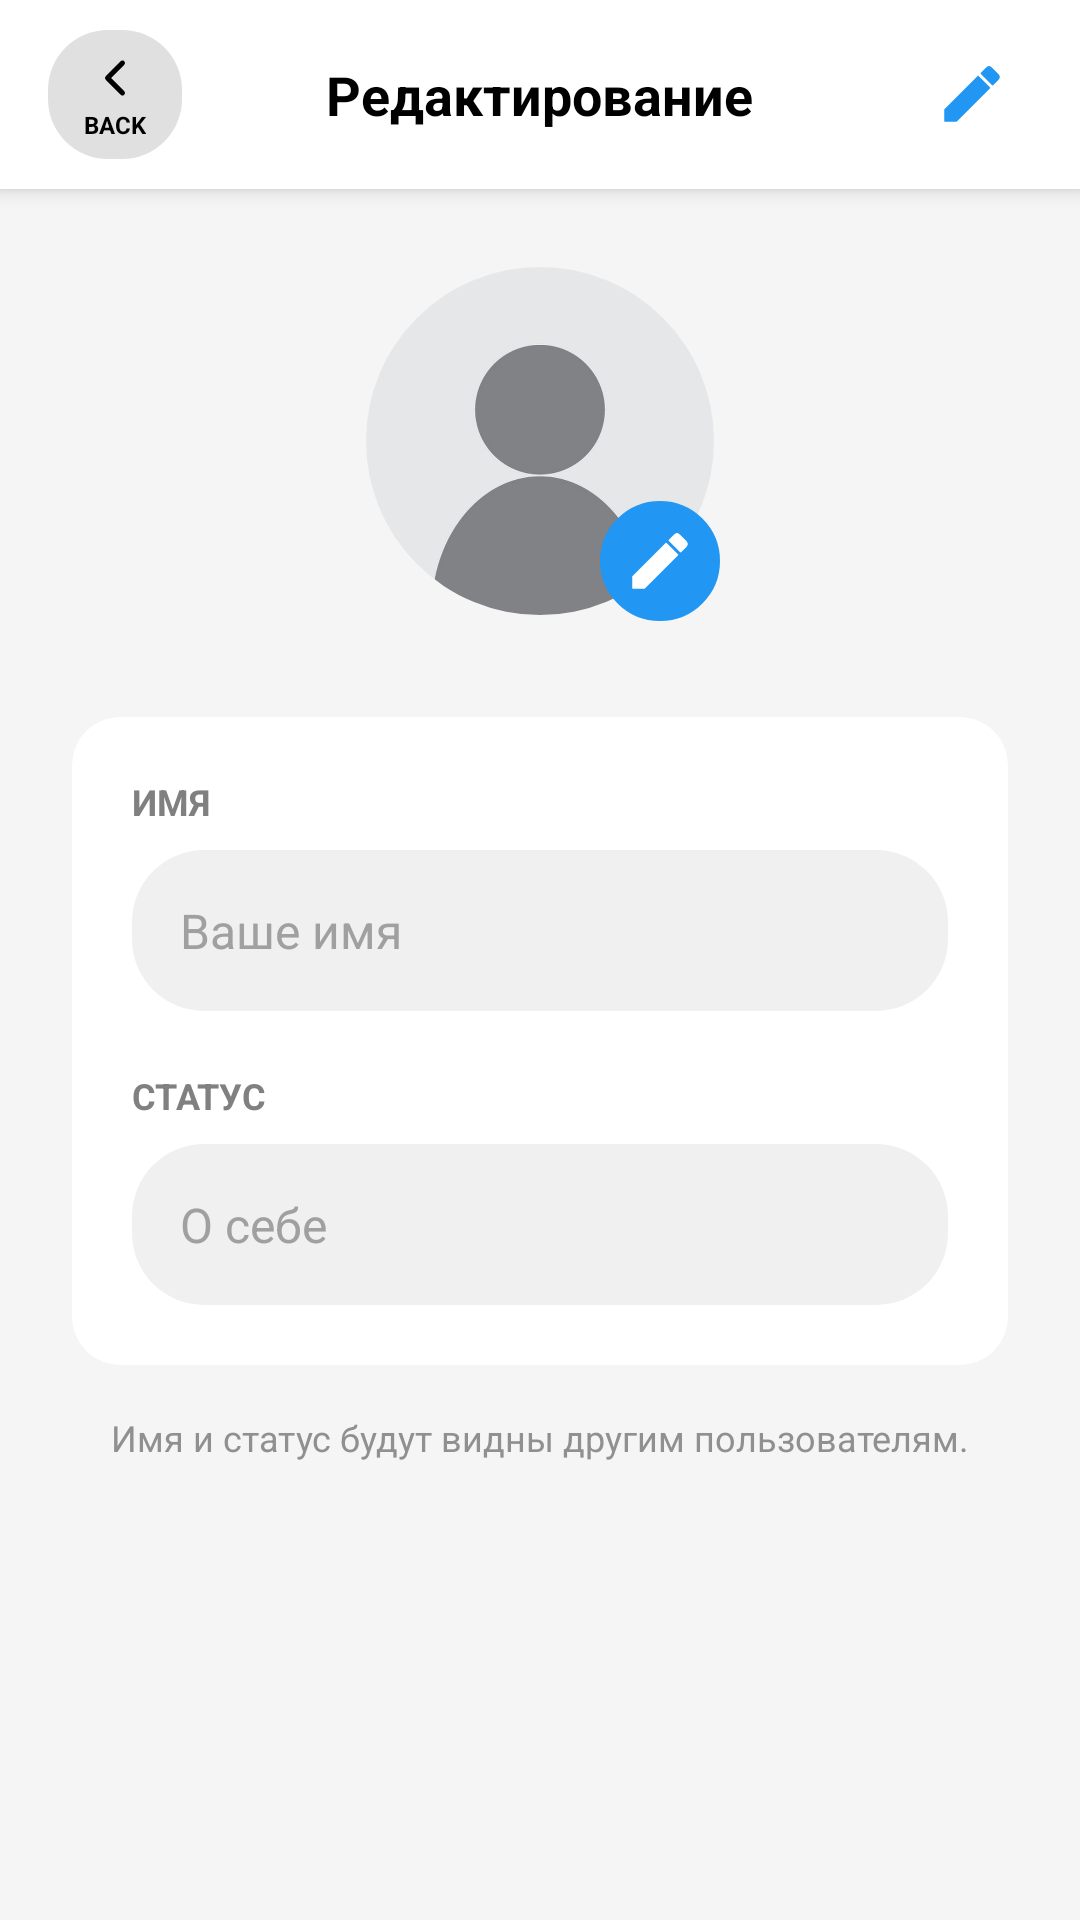

Icon bounding boxes for this 1080px×1920px phone screenshot, format (x1, y1, x2, y2):
edit: (944, 66, 1000, 122), (600, 501, 720, 621)
